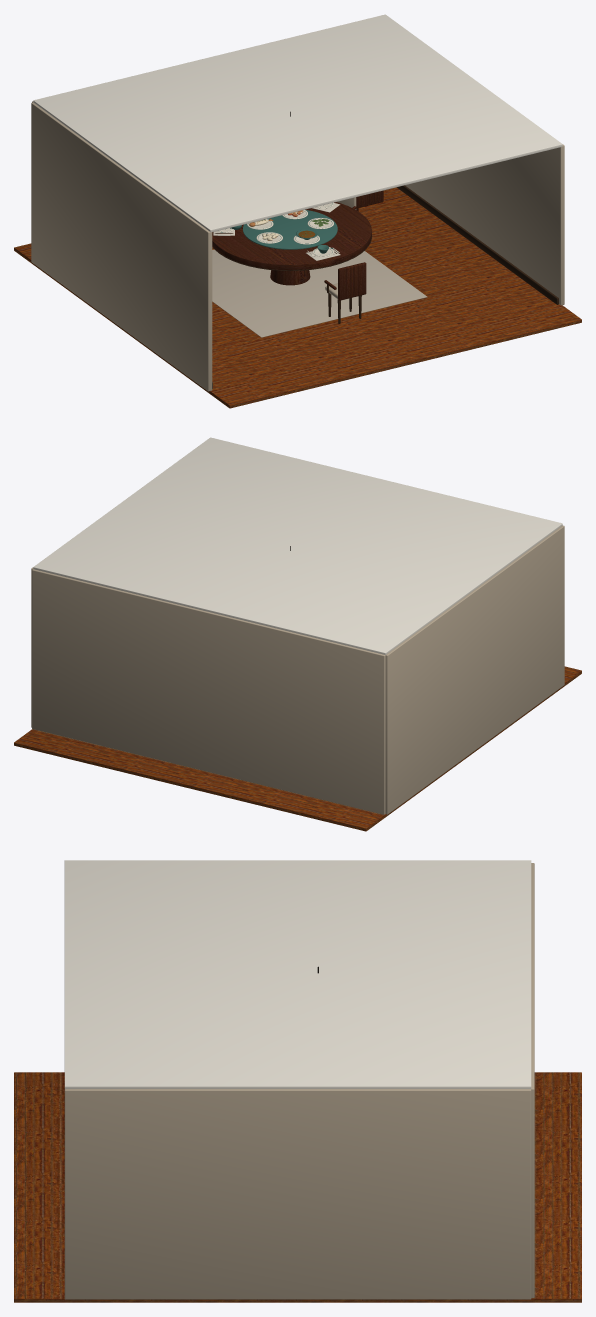
The model's file is room-family.glb.
3 views of the same model, one above another, from view 1: azimuth 30°, elevation 25°; view 2: azimuth 150°, elevation 25°; view 3: azimuth 270°, elevation 25° (orthographic). The views are drawn at different scales.
Parts seen in each view (by area): view 1: Ceiling, Surface sc:oat, Floor, Surface wood_table_001.005, Surface sc:ceramic.006, Surface sc:woodEdge.003, Surface wood_table_001.006, Surface sc:porcelain.006, Surface sc:woodEdge.004, Surface wood_table_001.004; view 2: Surface sc:oat, Ceiling, Floor; view 3: Ceiling, Surface sc:oat, Floor.
Boxes of the visible parts, x1,y1,x2,y2 form: Ceiling: [33, 14, 562, 232]; Surface sc:oat: [31, 101, 564, 391]; Floor: [14, 187, 581, 408]; Surface wood_table_001.005: [212, 202, 371, 270]; Surface sc:ceramic.006: [242, 210, 337, 249]; Surface sc:woodEdge.003: [212, 185, 558, 388]; Surface wood_table_001.006: [338, 190, 383, 300]; Surface sc:porcelain.006: [217, 202, 333, 256]; Surface sc:woodEdge.004: [212, 233, 371, 323]; Surface wood_table_001.004: [270, 270, 310, 285]; Surface sc:oat: [31, 525, 564, 814]; Ceiling: [33, 437, 562, 654]; Floor: [14, 666, 581, 831]; Ceiling: [64, 860, 531, 1088]; Surface sc:oat: [64, 863, 534, 1299]; Floor: [14, 1072, 581, 1302].
Size of the model in its own units: 13.36 by 6.06 by 14.
Materials: 49 (5 with a texture image).
